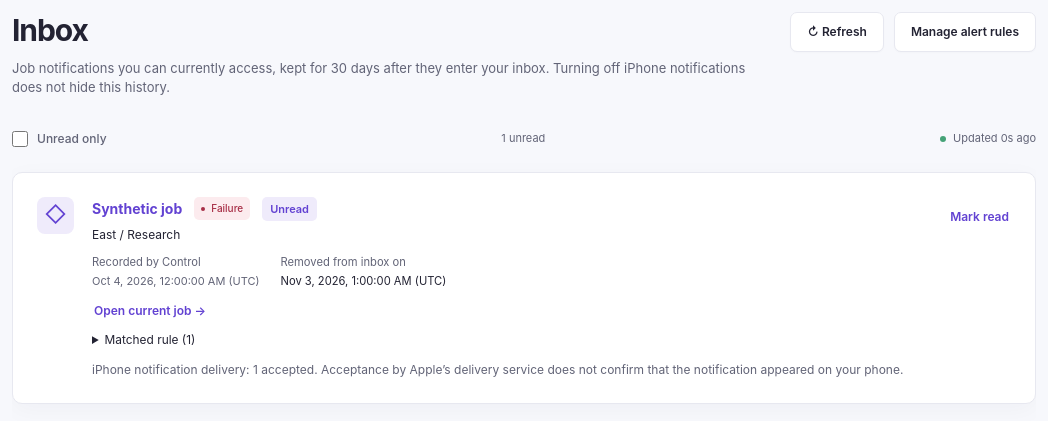
Test: marks read through bounded API and refreshes unread count
Expected: the link "Synthetic job" is shown, [92,198,182,219]
Click the button "Mark read".
click(980, 216)  # box [948,196,1011,236]
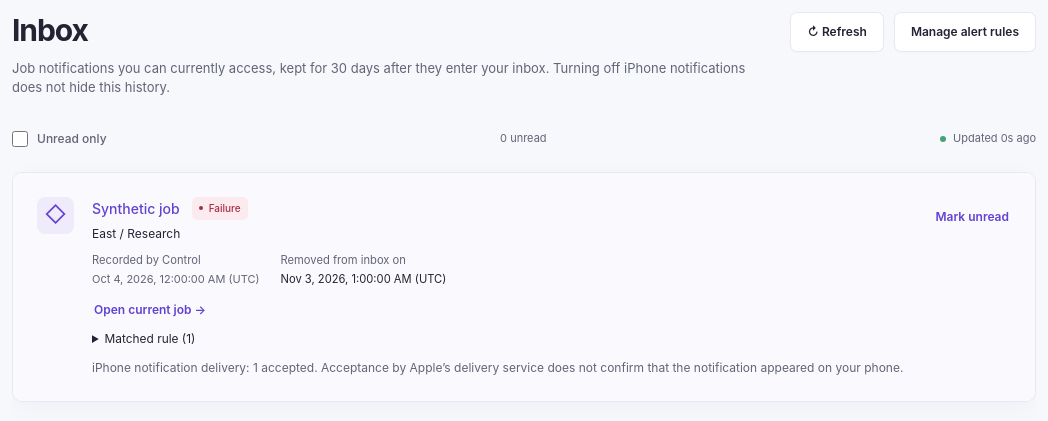
Now the button "Mark unread" is shown, box [934,196,1011,236]
Now the text "0 unread" is shown, box [500,130,546,147]
